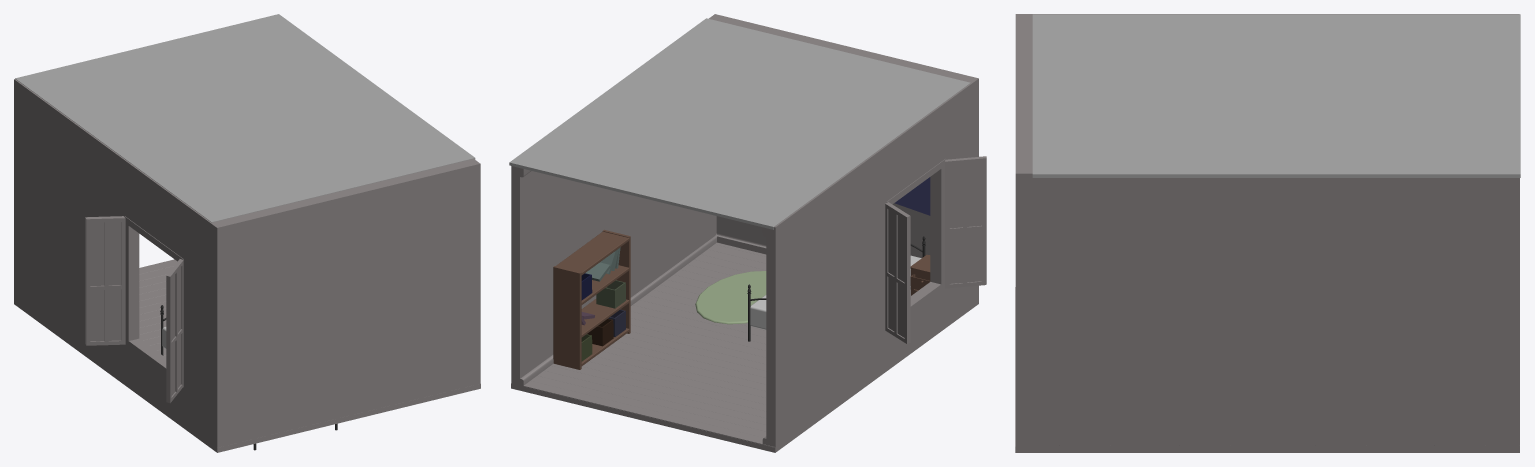
The model's file is Room.fbx.
3 views of the same model, side by side, from view 1: azimuth 30°, elevation 25°; view 2: azimuth 150°, elevation 25°; view 3: azimuth 270°, elevation 25° (orthographic). The views are drawn at different scales.
Parts seen in each view (by area): view 1: shutter2, roof; view 2: shutter2, roof, book_shelf, pCylinder6, cubes, pCube19, books, nightstand1, pCube13; view 3: shutter2, roof.
Boxes of the visible parts, x1,y1,x2,y2 form: shutter2: (14,79,480,452); roof: (15,14,475,222); shutter2: (511,14,986,452); roof: (509,18,970,229); book_shelf: (553,229,630,369); pCylinder6: (695,271,766,324); cubes: (581,273,625,361); pCube19: (894,177,930,215); books: (581,247,620,325); nightstand1: (910,254,930,295); pCube13: (750,255,921,329); shutter2: (1015,14,1519,452); roof: (1032,14,1520,177).
Bounding box in the file's own units: 105 × 81.35 × 125.
